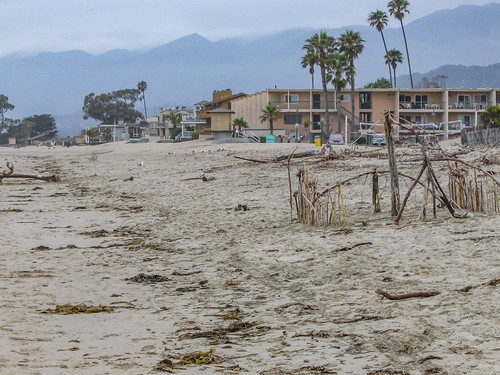beach: (1, 145, 499, 375)
building: (200, 85, 496, 143)
sky: (1, 1, 366, 33)
